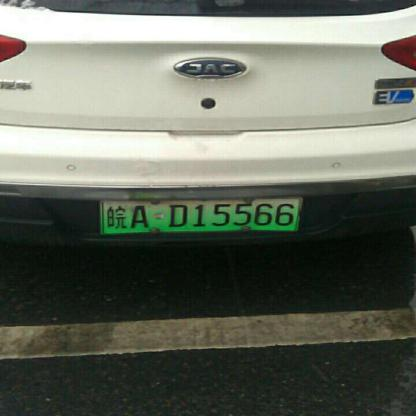lp: (103, 198, 299, 232)
